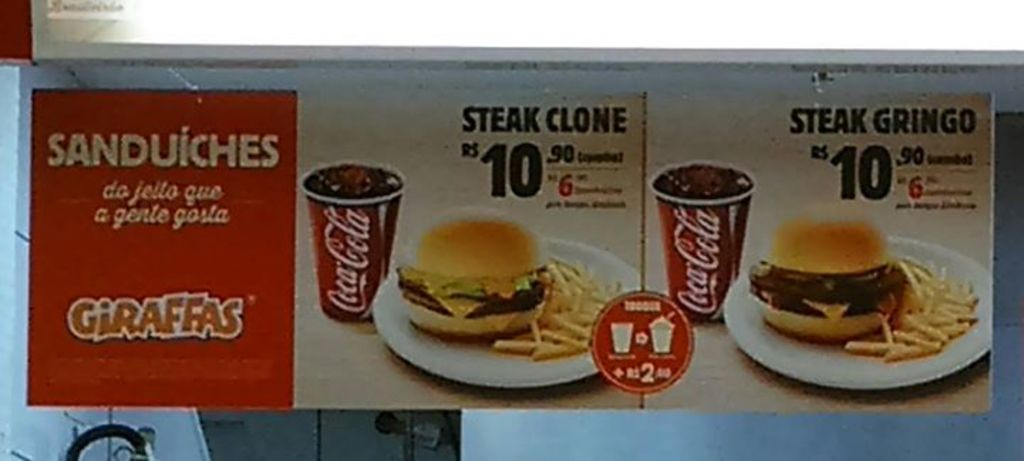Hamburger: (398, 203, 553, 334), (746, 210, 896, 341)
